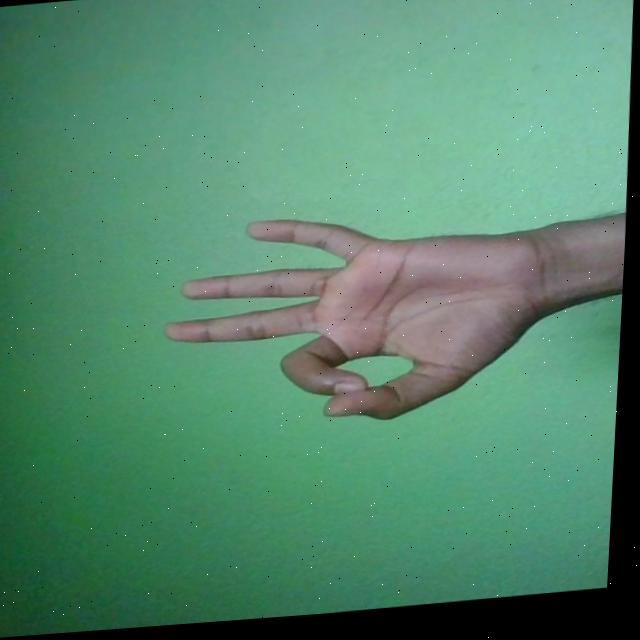Ok: (159, 199, 570, 444)
